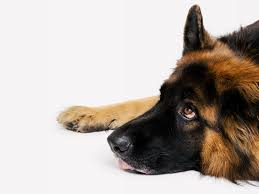dog: (102, 3, 259, 194)
